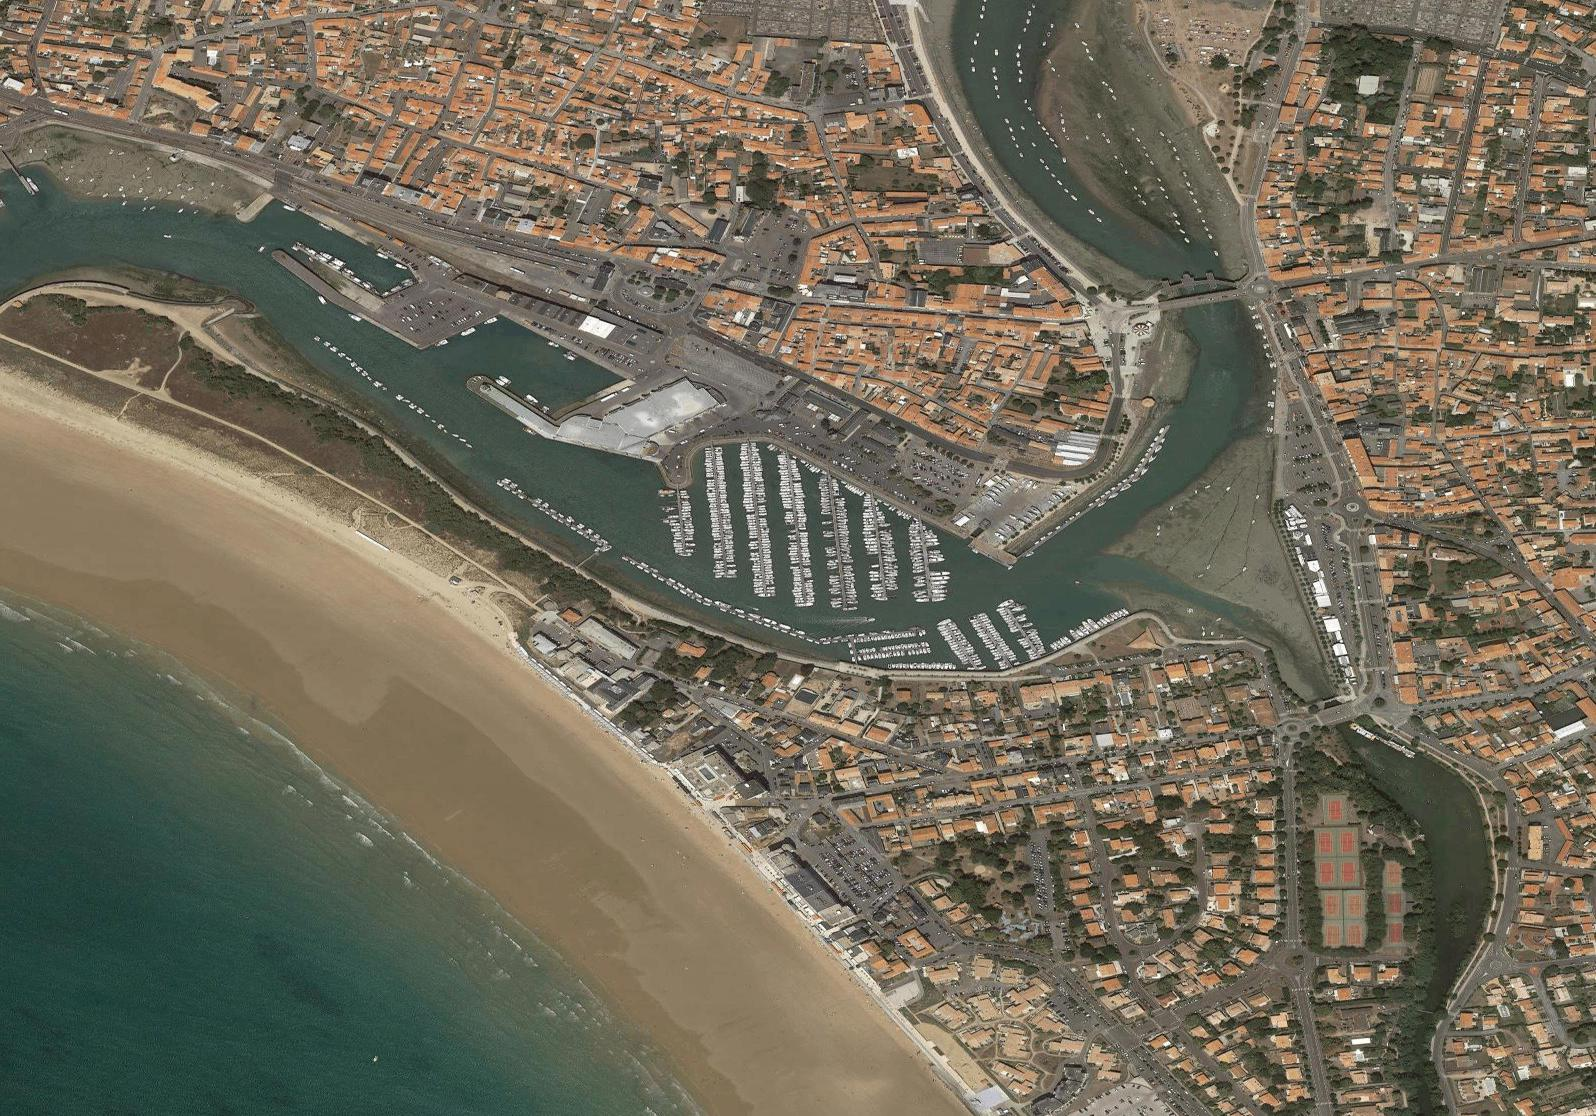bridge: (1170, 277, 1248, 315)
harbor: (268, 221, 1037, 690)
motorway: (136, 121, 281, 173), (411, 216, 557, 268), (1, 86, 146, 138), (270, 173, 416, 224)
